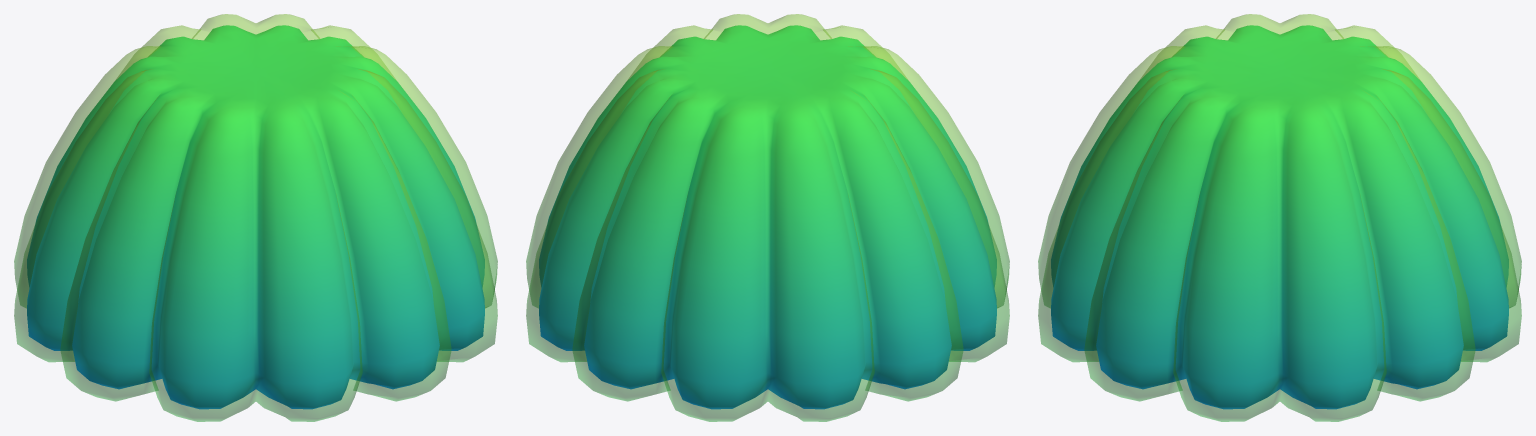
The model's file is Jelly_02.glb.
The picture shows the model from 3 angles, left to right: view 1: azimuth 30°, elevation 25°; view 2: azimuth 150°, elevation 25°; view 3: azimuth 270°, elevation 25°; orthographic projection.
Parts seen in each view (by area): view 1: Jelly_02; view 2: Jelly_02; view 3: Jelly_02.
Boxes of the visible parts, <box> form: Jelly_02: <box>14,14,497,421</box>; Jelly_02: <box>526,14,1009,421</box>; Jelly_02: <box>1038,14,1521,421</box>.
Bounding box in the file's own units: 16.27 × 10.09 × 16.27.
2 materials, 2 textured.
